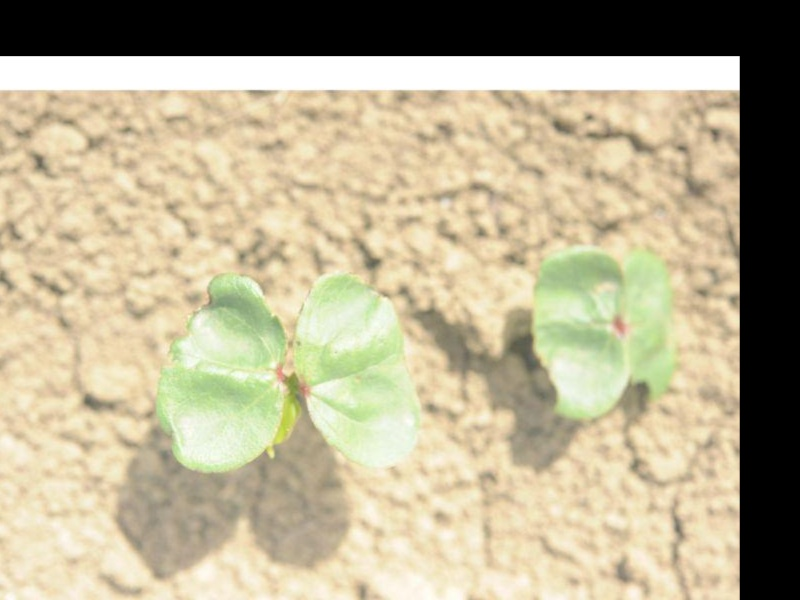cotton: (154, 268, 419, 468), (529, 245, 677, 422)
